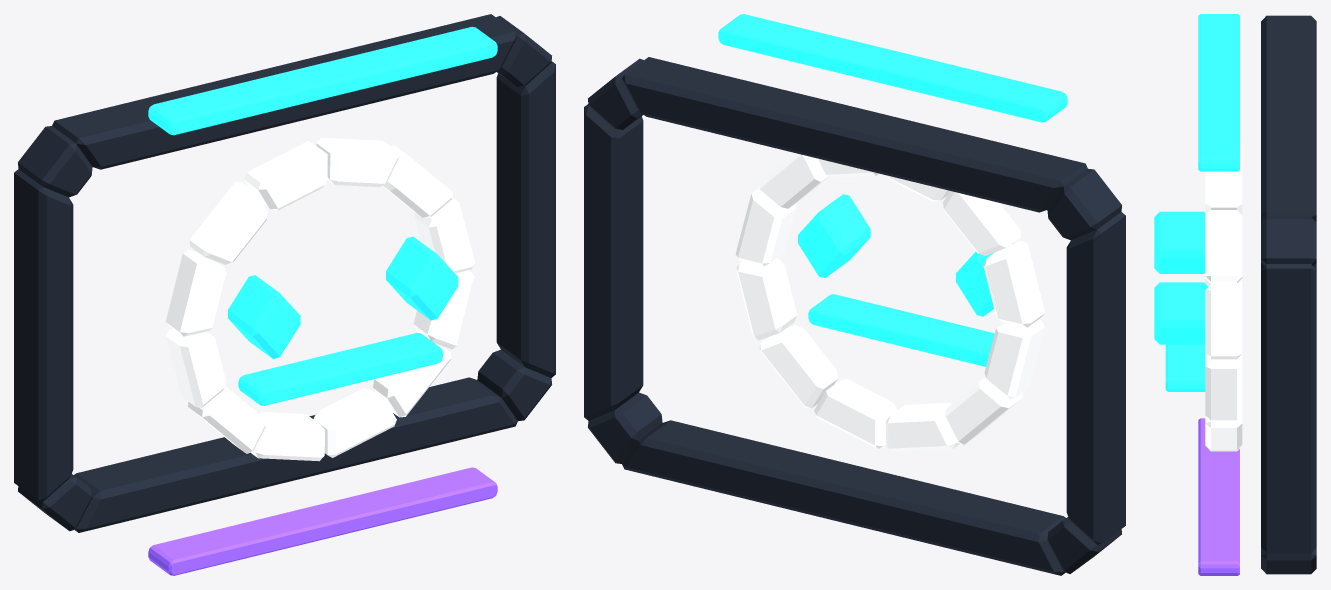
Rendered from tech-github.glb.
3 renders of one model, left to right at view 1: azimuth 30°, elevation 25°; view 2: azimuth 150°, elevation 25°; view 3: azimuth 270°, elevation 25°, orthographic. The views are drawn at different scales.
Visible parts, largest first — view 1: tech-github_SystemMaterial, tech-github_LabelMaterial, tech-github_SignalMaterial, tech-github_AccentMaterial; view 2: tech-github_SystemMaterial, tech-github_LabelMaterial, tech-github_SignalMaterial; view 3: tech-github_SystemMaterial, tech-github_SignalMaterial, tech-github_LabelMaterial, tech-github_AccentMaterial.
Part boxes in pixels (<box>): tech-github_SystemMaterial: <box>14,14,555,532</box>; tech-github_LabelMaterial: <box>165,137,475,461</box>; tech-github_SignalMaterial: <box>148,26,497,405</box>; tech-github_AccentMaterial: <box>148,467,497,575</box>; tech-github_SystemMaterial: <box>584,57,1125,575</box>; tech-github_LabelMaterial: <box>735,153,1045,452</box>; tech-github_SignalMaterial: <box>718,14,1067,366</box>; tech-github_SystemMaterial: <box>1261,15,1316,574</box>; tech-github_SignalMaterial: <box>1154,14,1239,391</box>; tech-github_LabelMaterial: <box>1205,142,1242,451</box>; tech-github_AccentMaterial: <box>1198,418,1239,575</box>.
Bounding box in the file's own units: 1.18 × 0.995 × 0.35.
